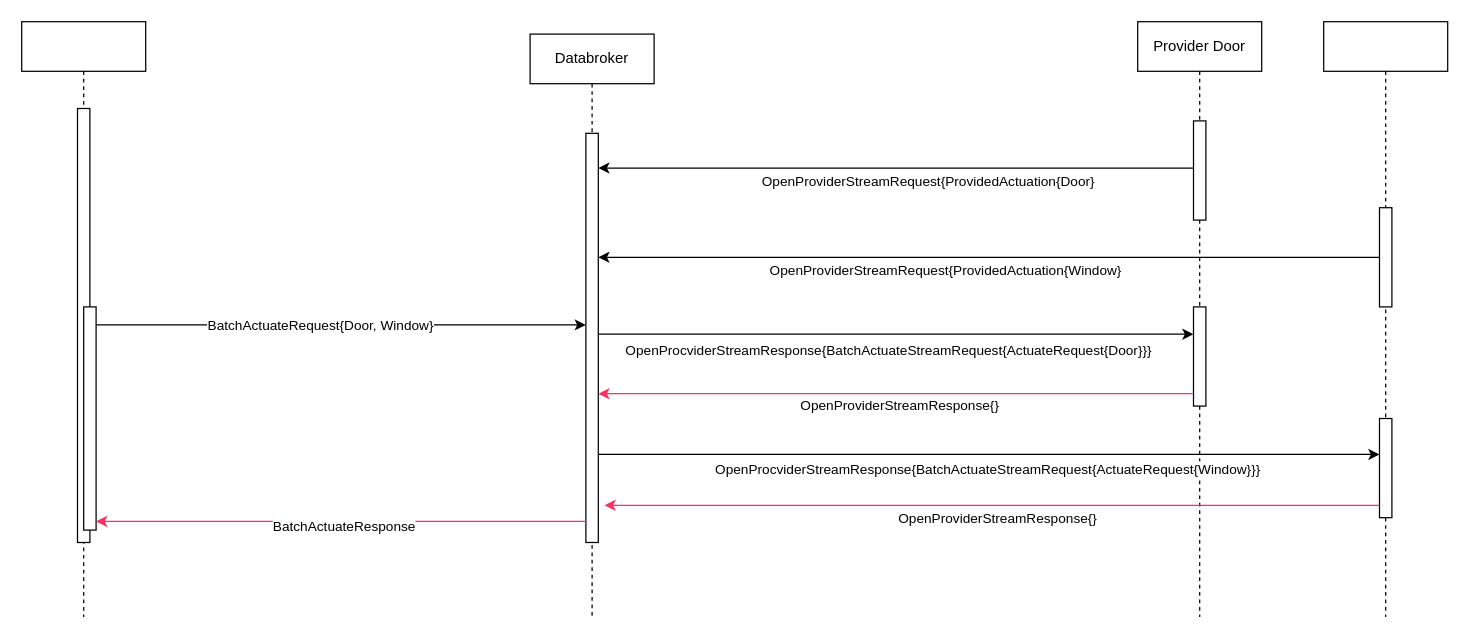
Some shapes in this 1469 by 639 pixel diagram are drawn without their labels. Each missing label, with the centre of its shape:
Client: pixel 83 318
Provider Window: pixel 1385 318
